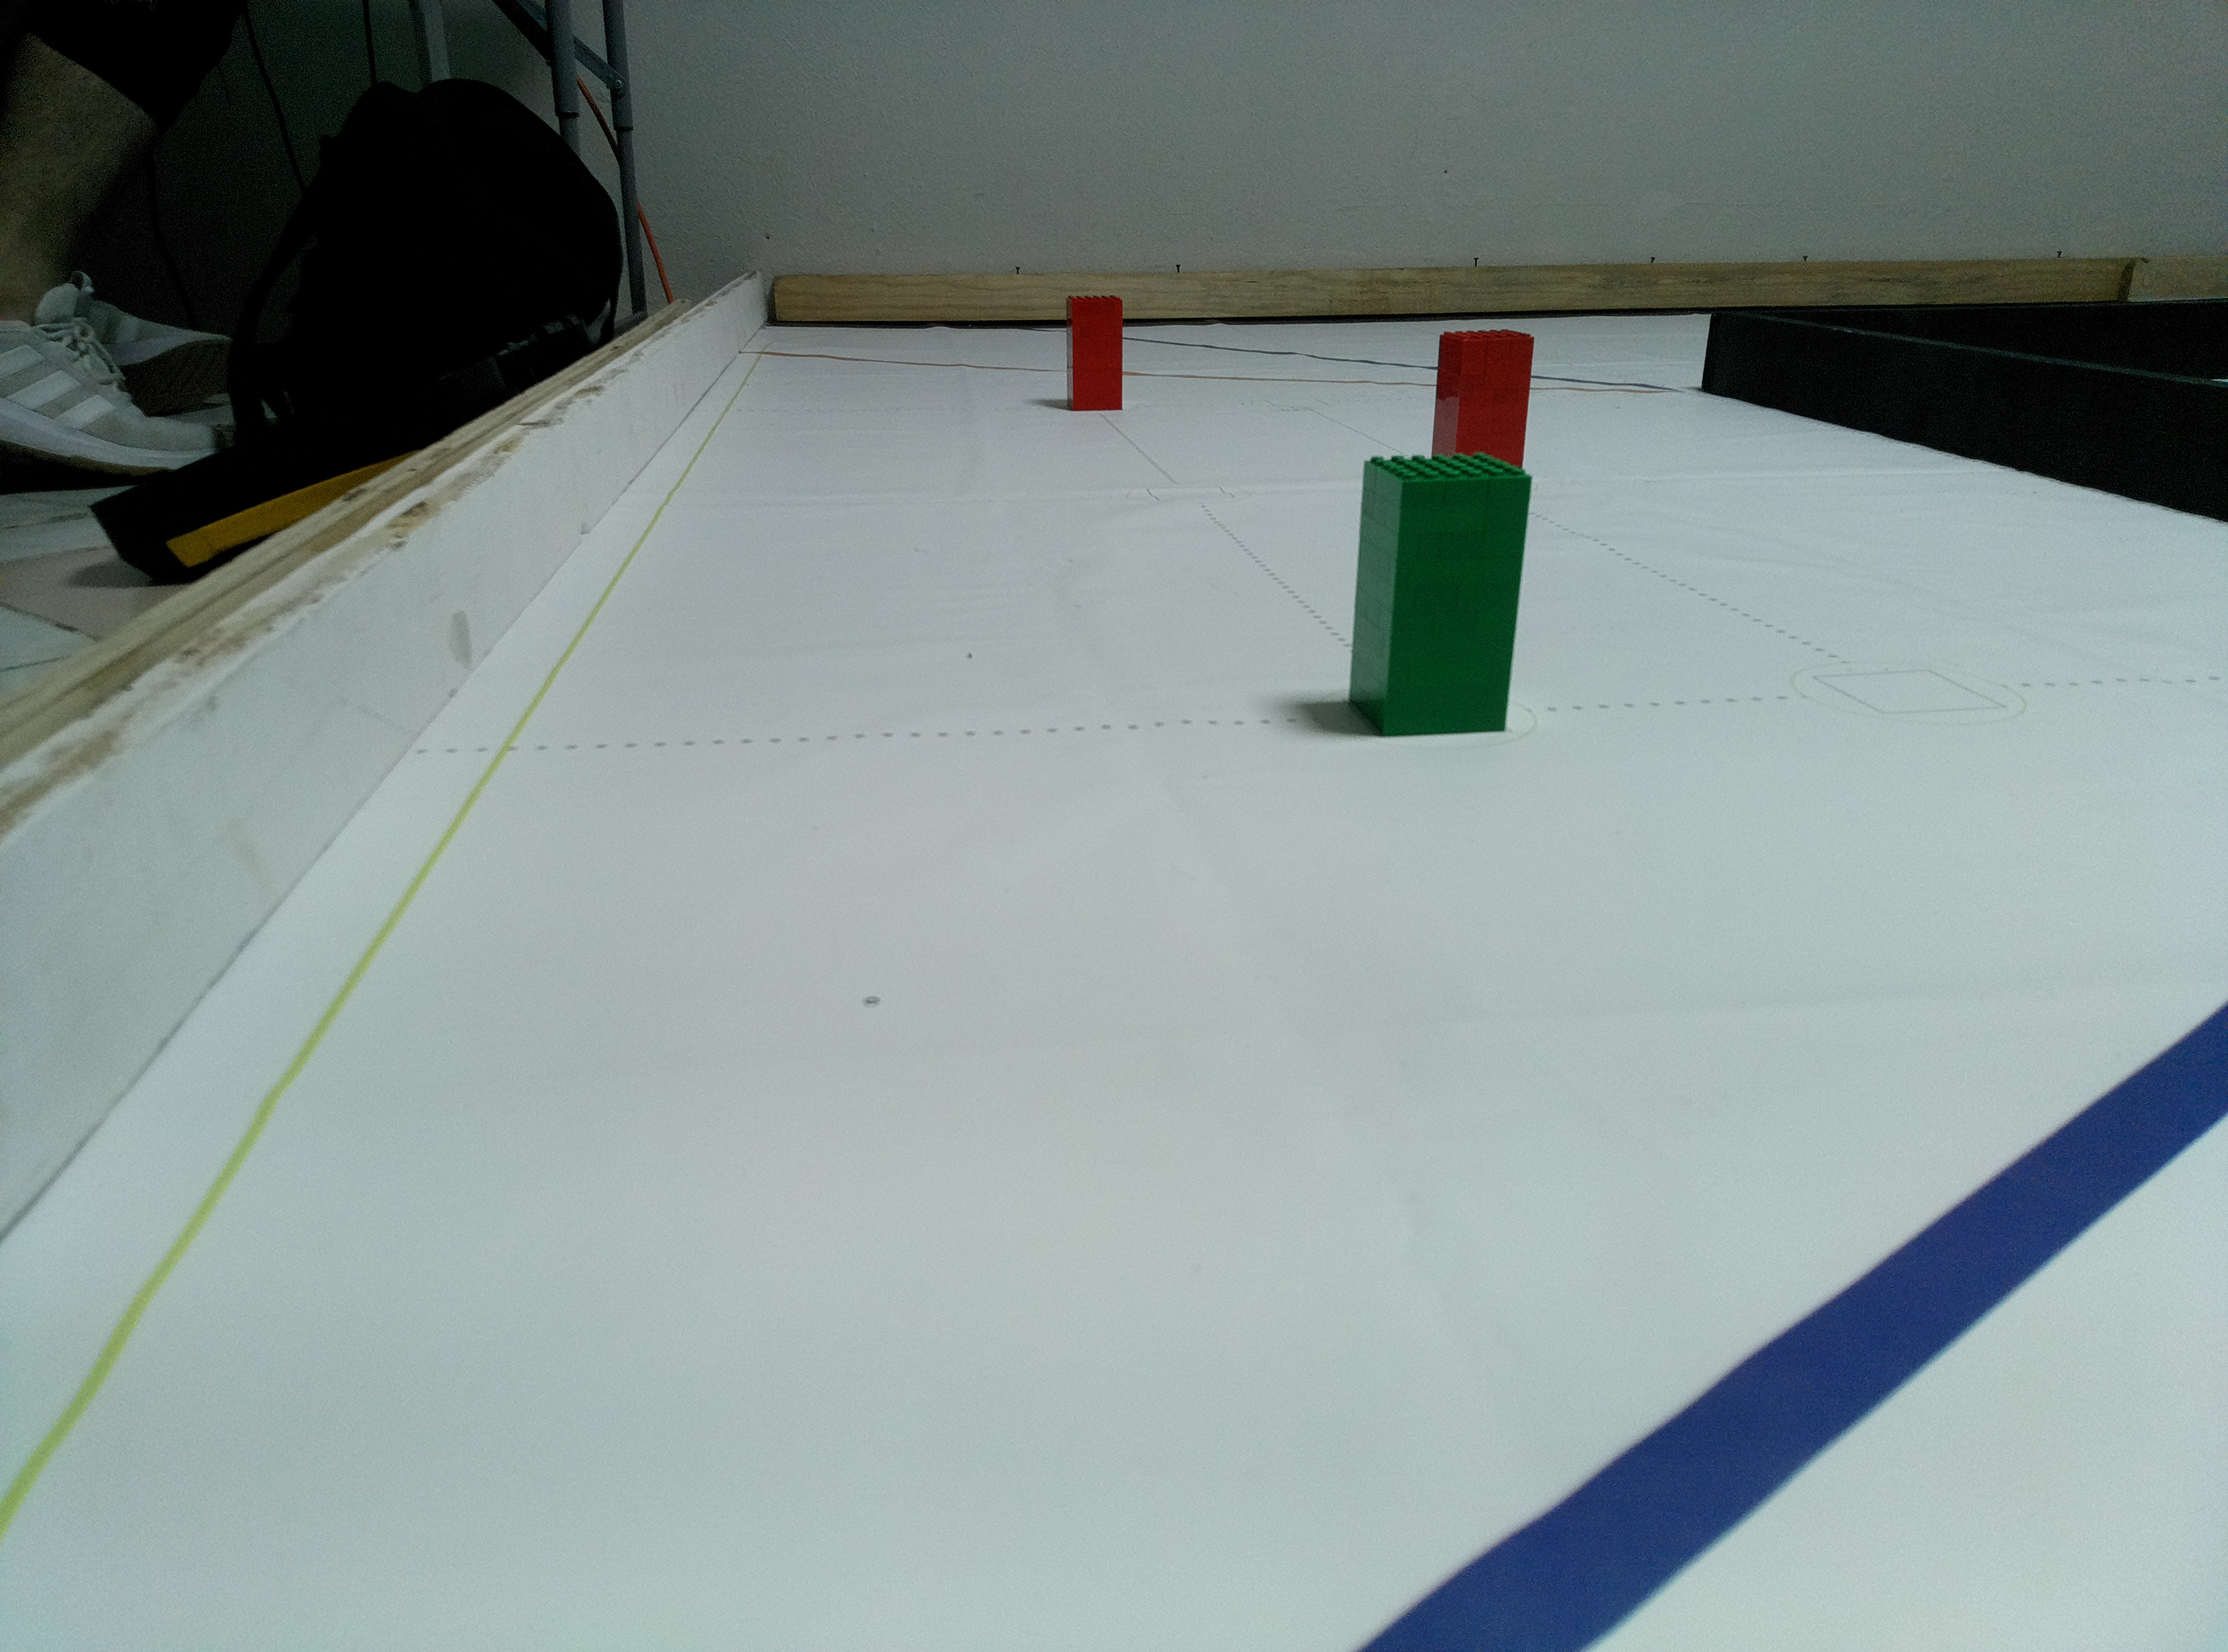greenbox: (1338, 451, 1532, 751)
redbox: (1430, 328, 1537, 472), (1064, 295, 1126, 411)
